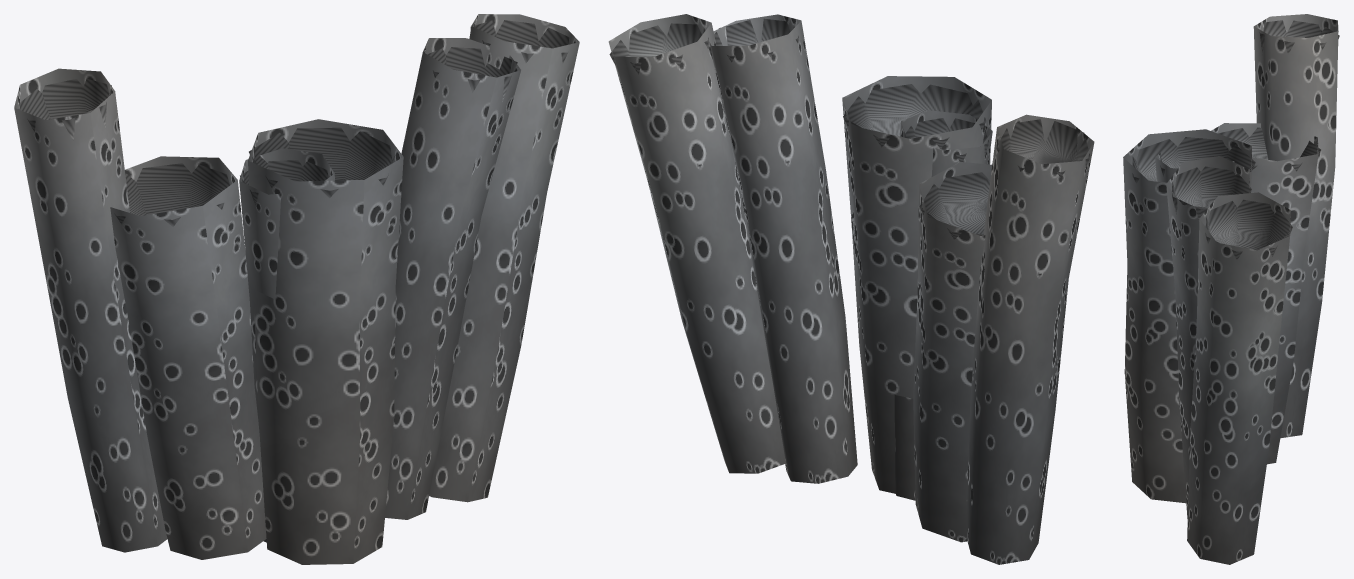
The model's file is tubes_l1.gltf.
3 renders of one model, left to right at view 1: azimuth 30°, elevation 25°; view 2: azimuth 150°, elevation 25°; view 3: azimuth 270°, elevation 25°, orthographic. The views are drawn at different scales.
Visible parts, largest first — view 1: tubes_l1; view 2: tubes_l1; view 3: tubes_l1.
Part boxes in pixels (box(x1,y1,x2,y2)): tubes_l1: box(14, 14, 579, 564); tubes_l1: box(608, 14, 1094, 564); tubes_l1: box(1123, 14, 1339, 564).
Size of the model in its own units: 1.72 by 1.46 by 0.732.
1 material, 1 textured.
